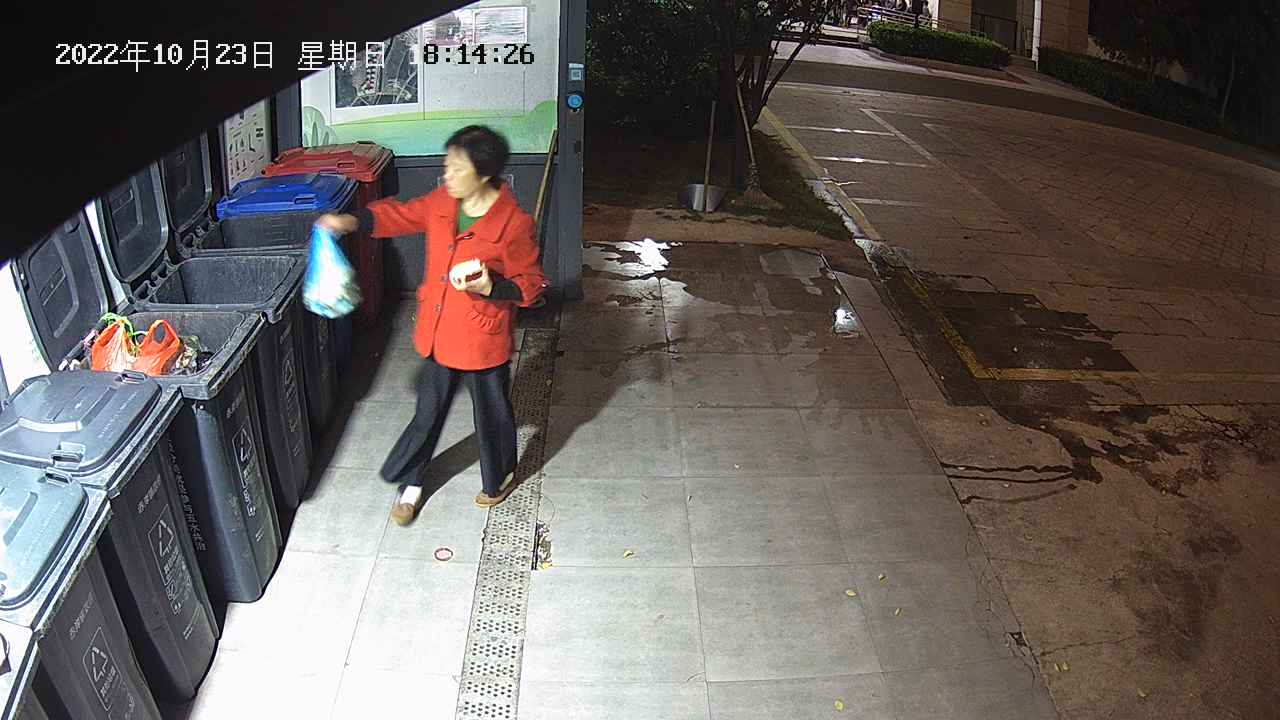garbage-bag: (300, 222, 365, 320)
person: (311, 121, 550, 527)
